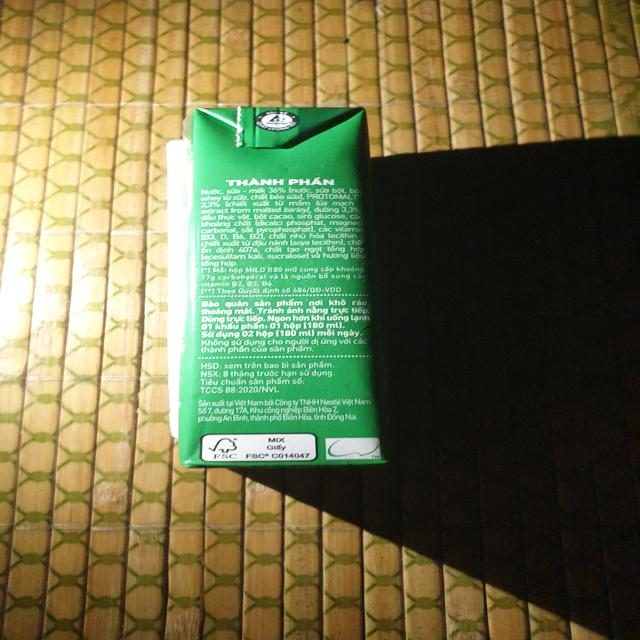Milo: (153, 103, 396, 475)
